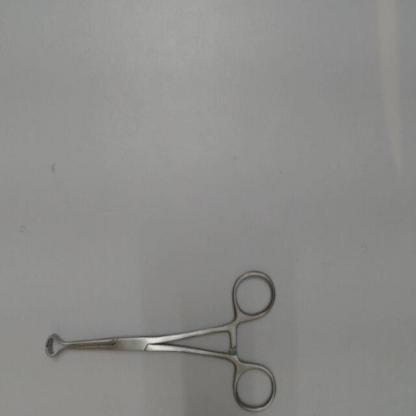Babcock Tissue Forceps: (42, 264, 283, 414)
